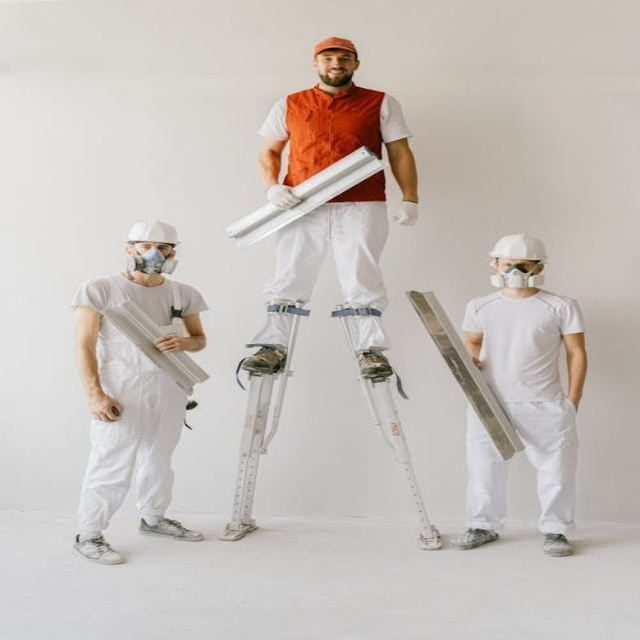Gafas: (496, 261, 543, 274), (132, 243, 175, 253)
Guantes: (266, 184, 302, 210), (391, 199, 418, 226)
Mascara: (126, 245, 178, 276), (489, 262, 545, 289)
Sin_gafas: (315, 52, 356, 63)
Sin_guantes: (83, 393, 127, 423), (151, 332, 197, 355)
Sin_mascara: (320, 66, 352, 85)
